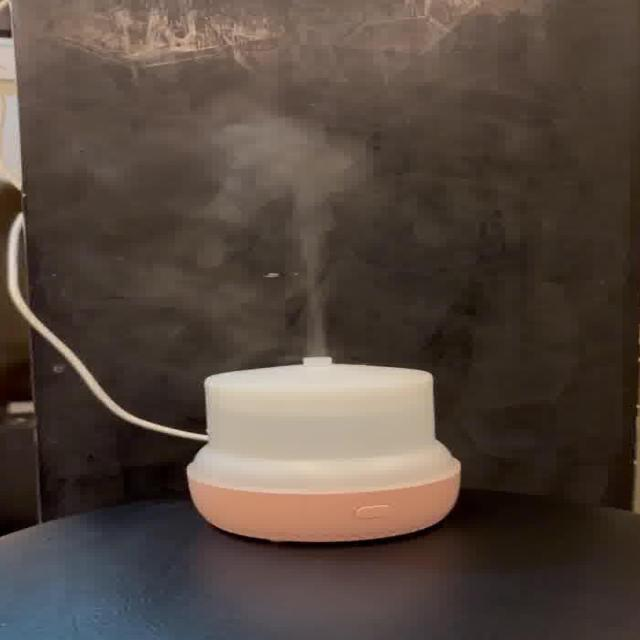fire: (195, 115, 372, 354)
